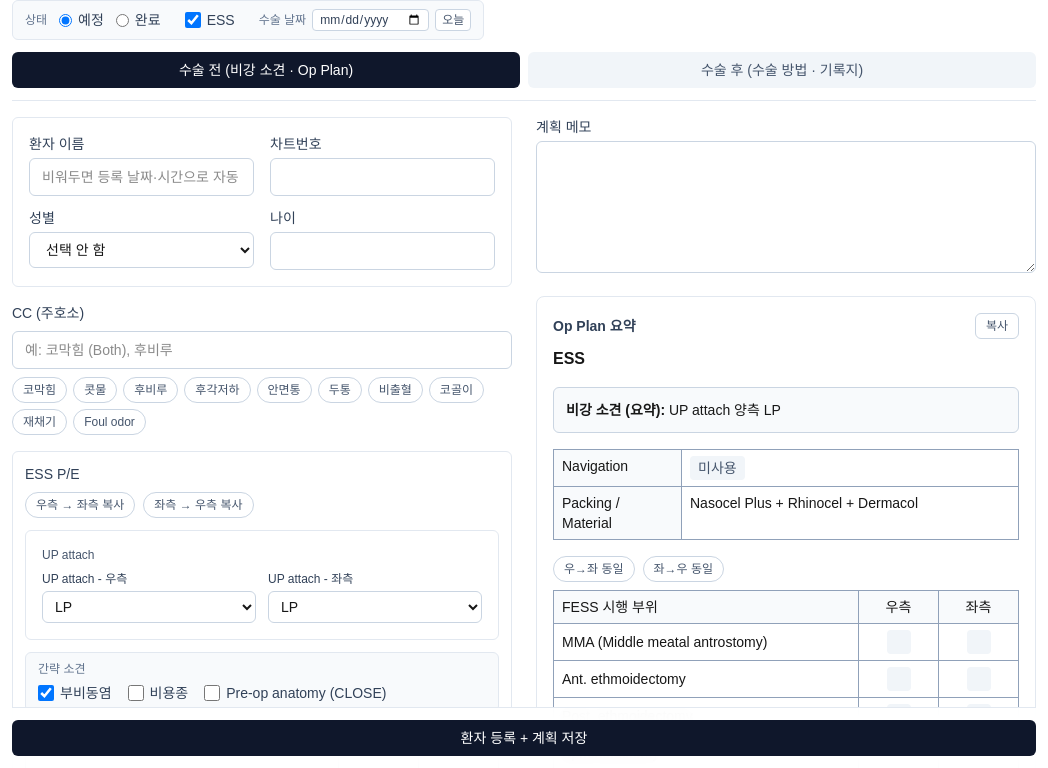
CC 빠른 입력 › 증상을 누른 뒤 그 옆의 방향을 고르면 CC에 방향과 함께 들어가고, 다른 방향을 누르면 방향만 바뀐다
The image size is (1048, 768).
What coordinates should you click on to do the following:
click the button "코막힘"
I would click on:
 (40, 390)
Its box is [12,377,67,403].
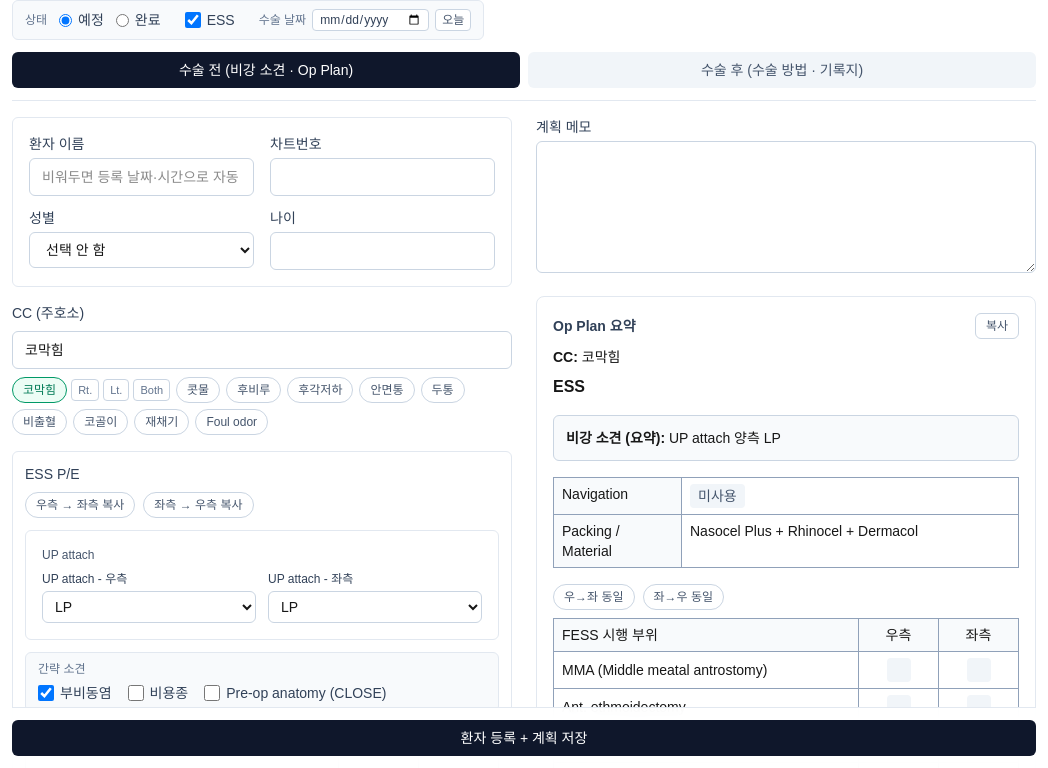
What coordinates should you click on to do the following:
click the button "Rt."
I would click on:
 (85, 390)
Its box is [71,379,99,401].
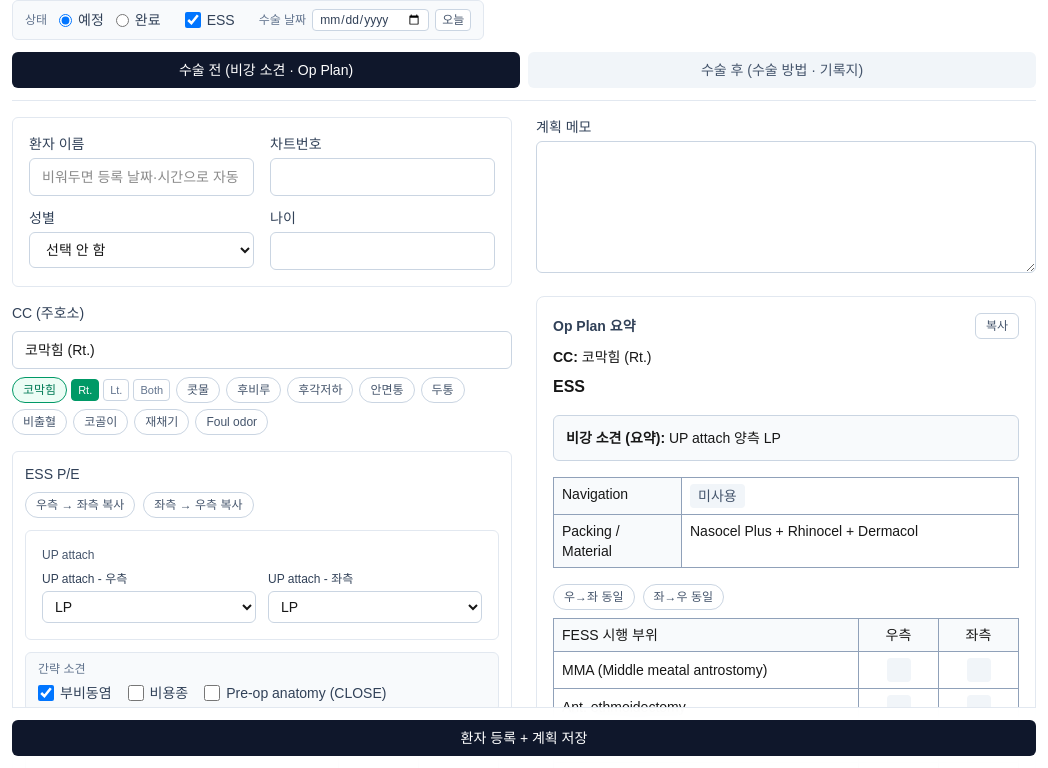
What coordinates should you click on to do the following:
click the button "후비루"
I would click on:
 (254, 390)
Its box is [226,377,281,403].
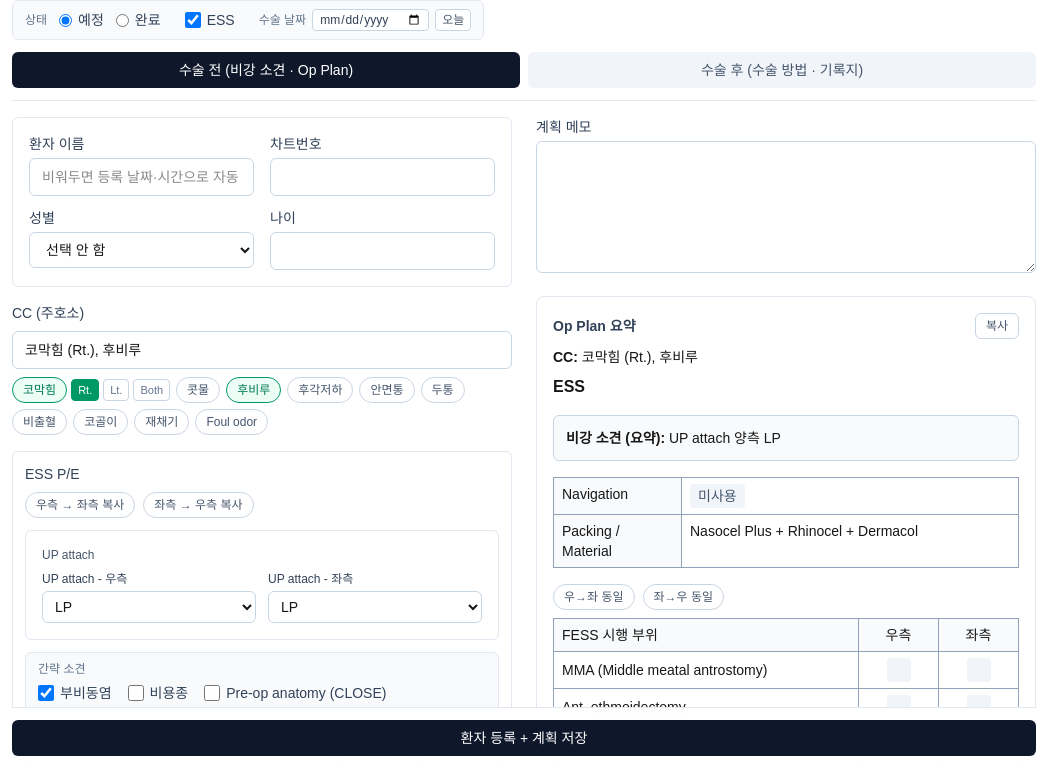
Expected: the field named "chiefComplaint" below "CC (주호소)" holds "코막힘 (Rt.), 후비루", [12,331,512,369]
What coordinates should you click on to do the following:
click the button "Both"
I would click on:
 (152, 390)
Its box is [133,379,170,401].
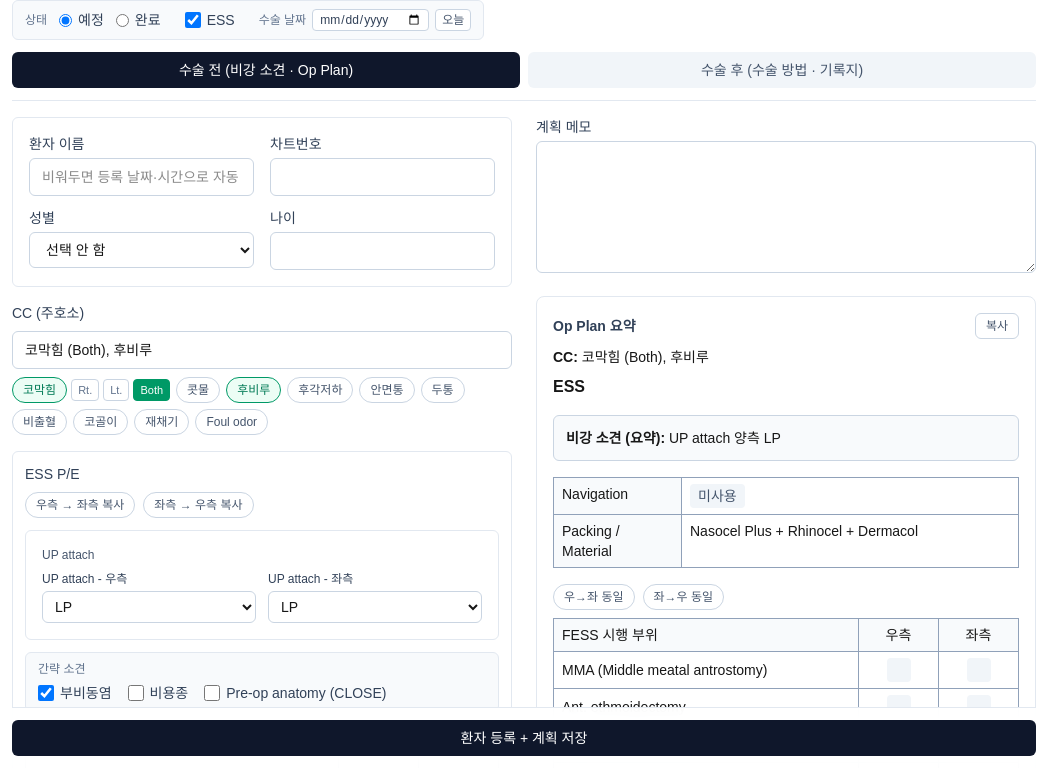
Expected: the field named "chiefComplaint" below "CC (주호소)" holds "코막힘 (Both), 후비루", [12,331,512,369]
